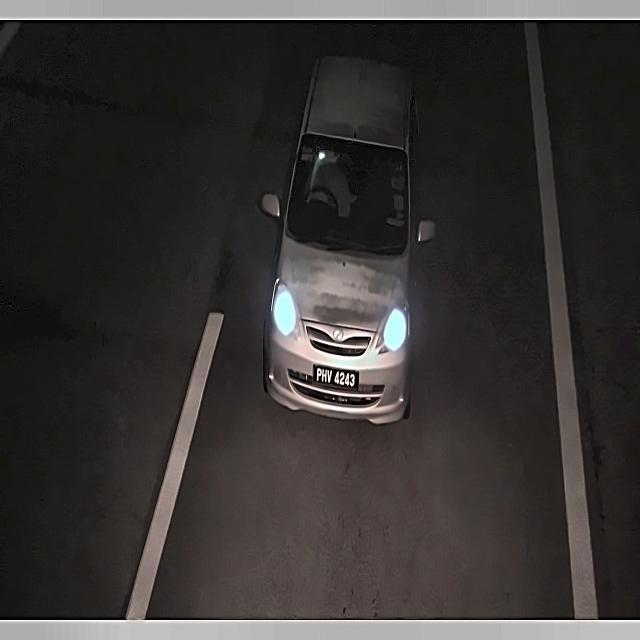car: (309, 363, 362, 398)
